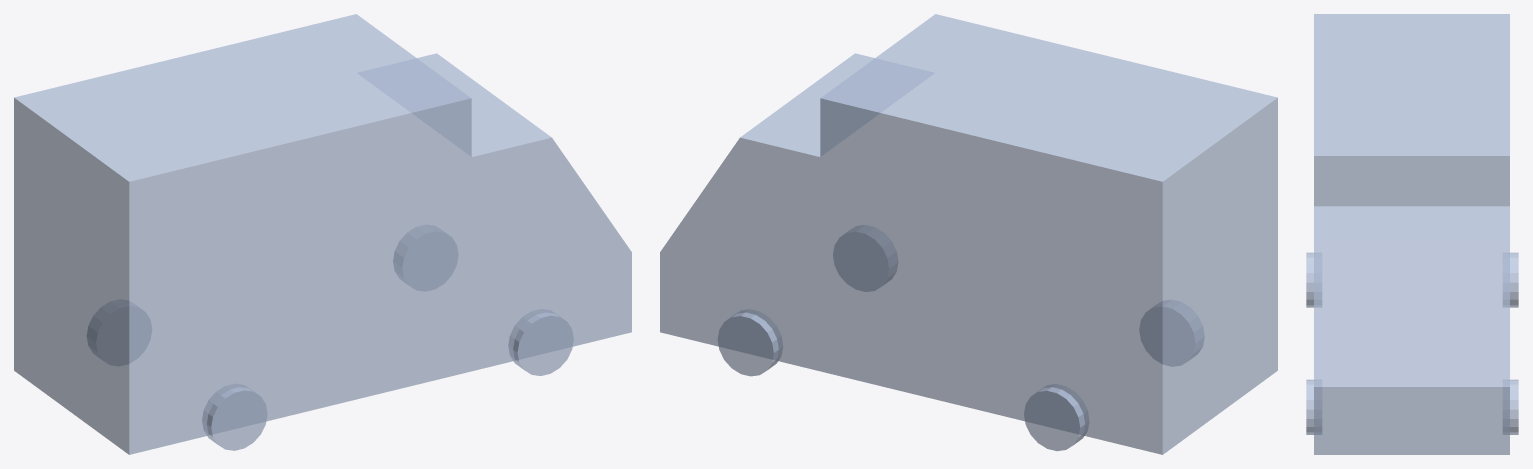
3 renders of one model, left to right at view 1: azimuth 30°, elevation 25°; view 2: azimuth 150°, elevation 25°; view 3: azimuth 270°, elevation 25°, orthographic. The views are drawn at different scales.
Parts seen in each view (by area): view 1: Car_09; view 2: Car_09; view 3: Car_09.
Part boxes in pixels (box(x1,y1,x2,y2)): Car_09: box(14, 14, 631, 454); Car_09: box(660, 14, 1277, 454); Car_09: box(1306, 14, 1518, 454).
Size of the model in its own units: 307 by 169 by 132.
